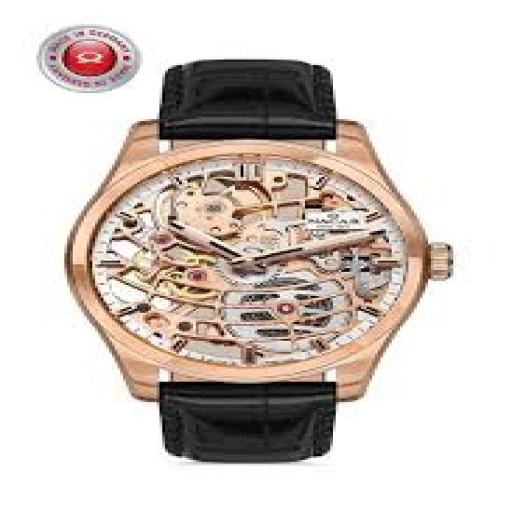KolSaati: (59, 47, 460, 474)
